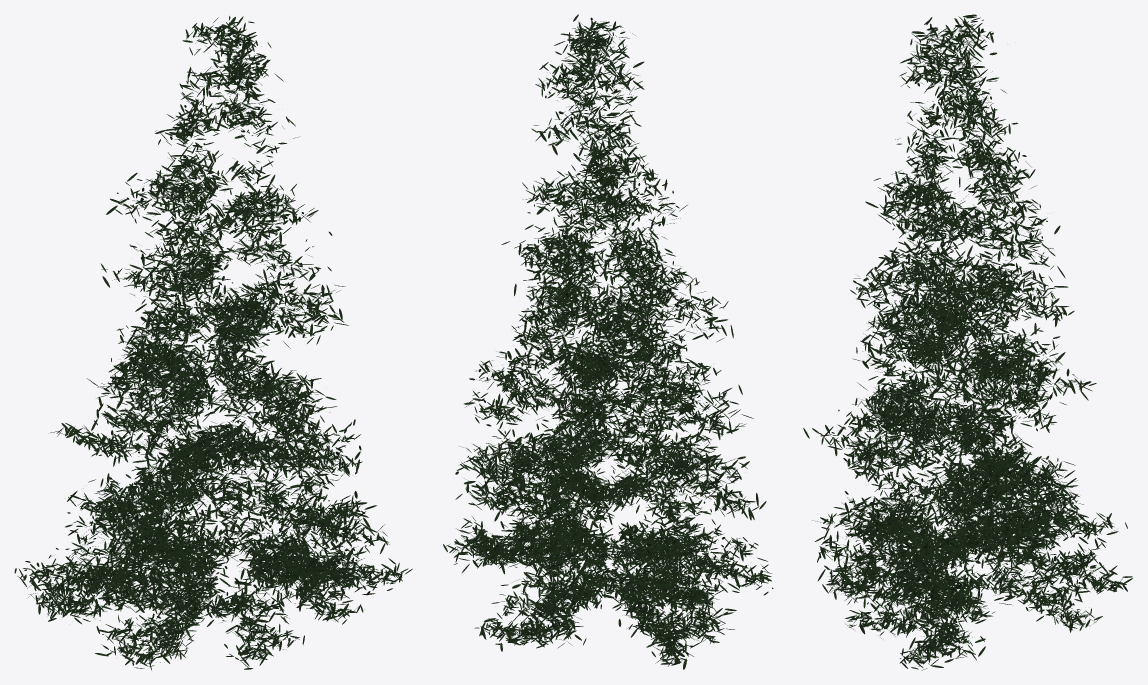
The model's file is landscape-tree-45-middle.glb.
3 views of the same model, side by side, from view 1: azimuth 30°, elevation 25°; view 2: azimuth 150°, elevation 25°; view 3: azimuth 270°, elevation 25° (orthographic). The views are drawn at different scales.
Visible parts, largest first — view 1: V6 south conifer 02 needles middle; view 2: V6 south conifer 02 needles middle; view 3: V6 south conifer 02 needles middle.
Boxes of the visible parts, left/top/right/bottom form: V6 south conifer 02 needles middle: left=14, top=16, right=412, bottom=670; V6 south conifer 02 needles middle: left=443, top=14, right=773, bottom=669; V6 south conifer 02 needles middle: left=803, top=14, right=1132, bottom=670.
Size of the model in its own units: 5.64 by 10.21 by 5.01.
1 material, 1 textured.
